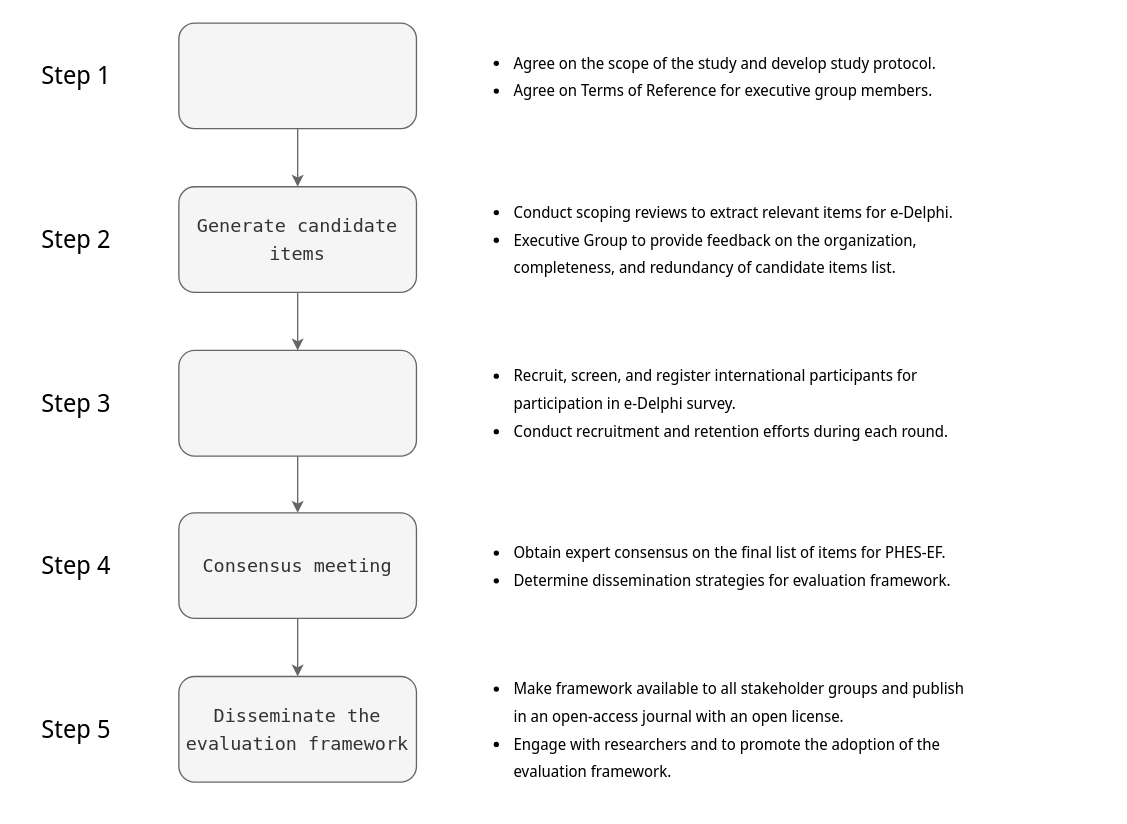
This 1127x824 diagram has some shape labels left out. Here are the shapes that lost their labels. From the top down, the centre of each, then its label:
At point (297, 75): "Establish the Executive Group".
At point (297, 402): "International e-Delphi survey".
